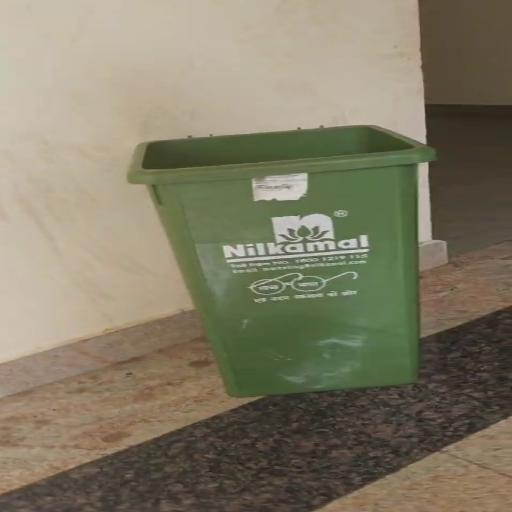Nilkamal-dustbin-detection: (129, 125, 435, 396)
